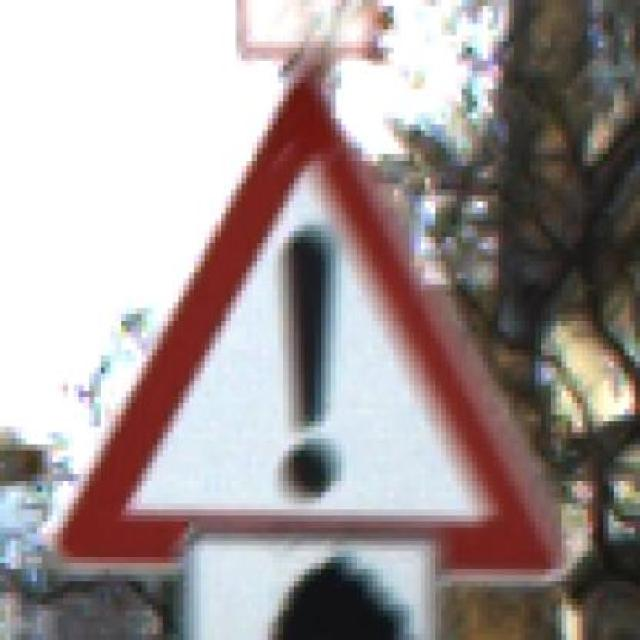Attention Please-: (53, 82, 567, 603)
